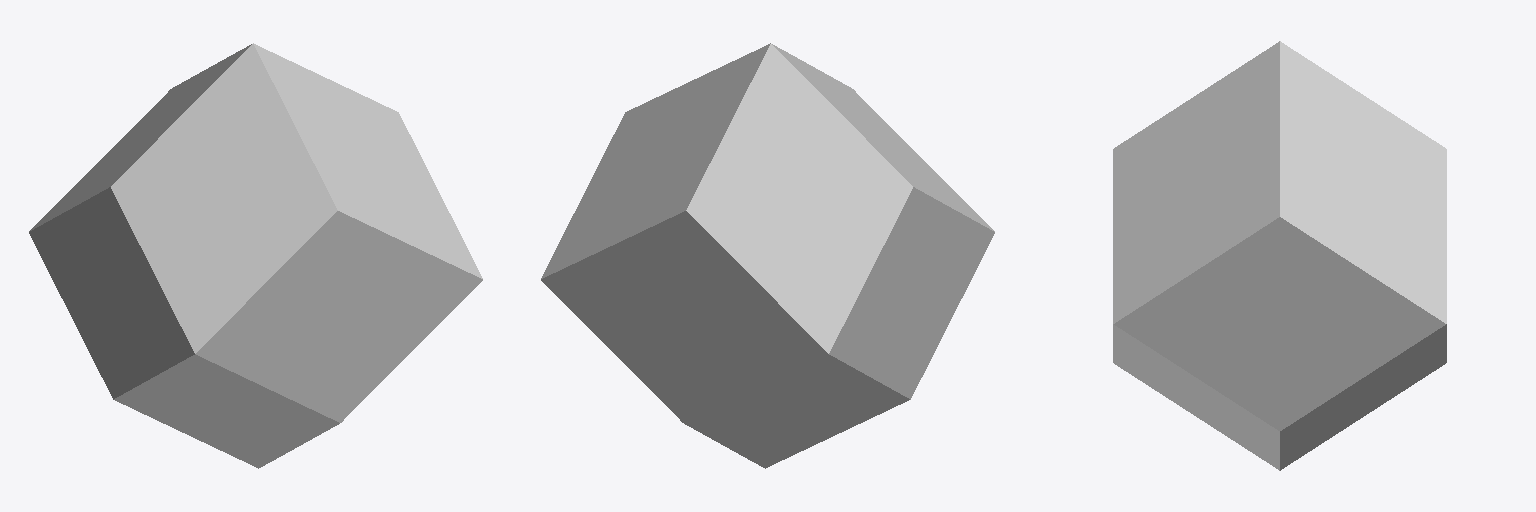
The model's file is RhombicDodecahedron.obj.
The picture shows the model from 3 angles: view 1: azimuth 30°, elevation 25°; view 2: azimuth 150°, elevation 25°; view 3: azimuth 270°, elevation 25°; orthographic projection.
Parts seen in each view (by area): view 1: RhombicDodecahedron; view 2: RhombicDodecahedron; view 3: RhombicDodecahedron.
Part boxes in pixels (left/top/right/bottom): RhombicDodecahedron: left=29, top=43, right=482, bottom=468; RhombicDodecahedron: left=541, top=43, right=994, bottom=468; RhombicDodecahedron: left=1113, top=41, right=1446, bottom=470.
Size of the model in its own units: 1.24 by 1.73 by 1.22.